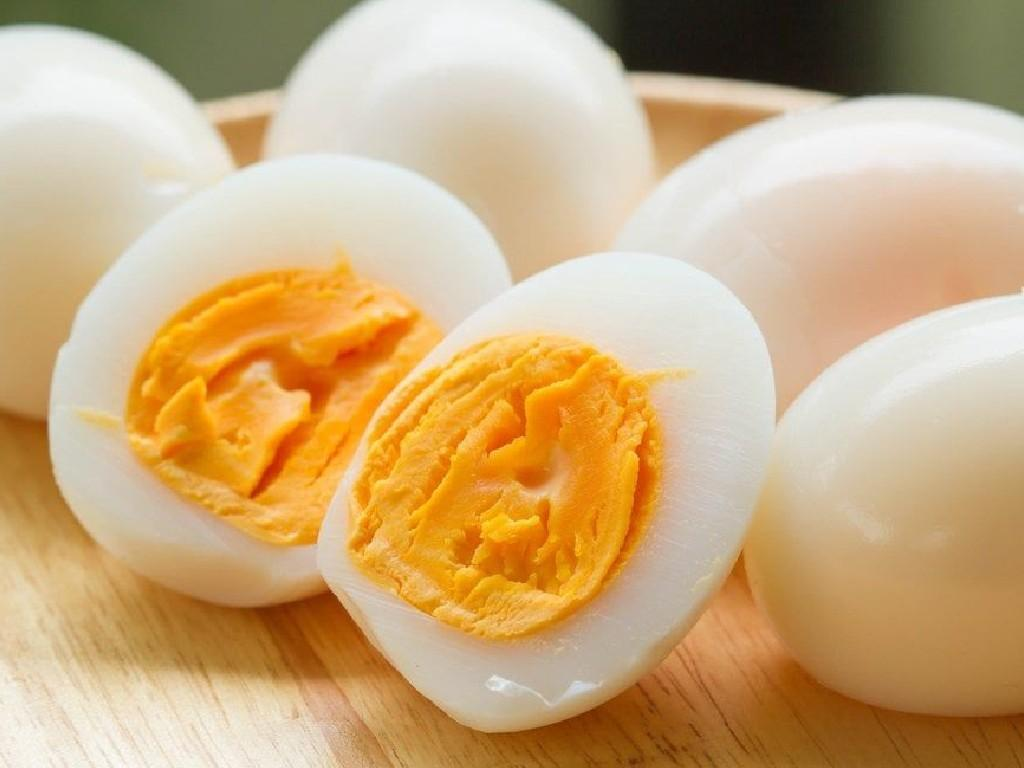telur: (472, 303, 689, 638), (149, 240, 315, 576), (814, 395, 1017, 654), (724, 142, 1024, 268), (364, 7, 548, 150), (6, 59, 139, 239)
